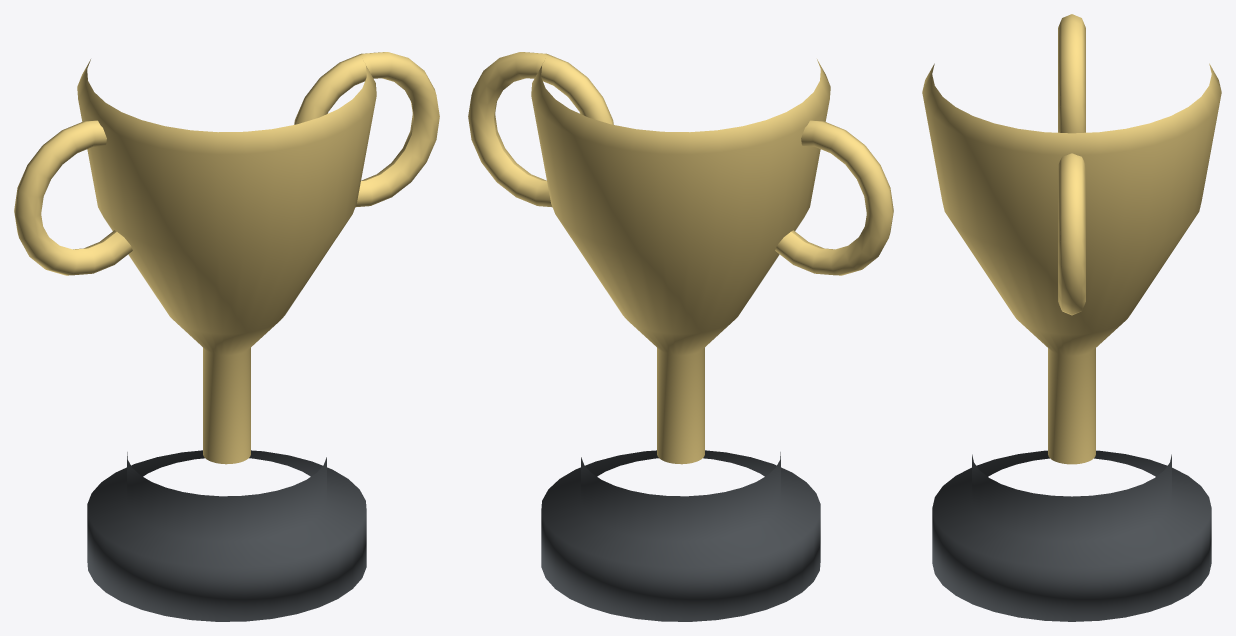
The model's file is trophy.glb.
3 renders of one model, left to right at view 1: azimuth 30°, elevation 25°; view 2: azimuth 150°, elevation 25°; view 3: azimuth 270°, elevation 25°, orthographic.
Bounding box in the file's own units: 0.244 × 0.27 × 0.15.
